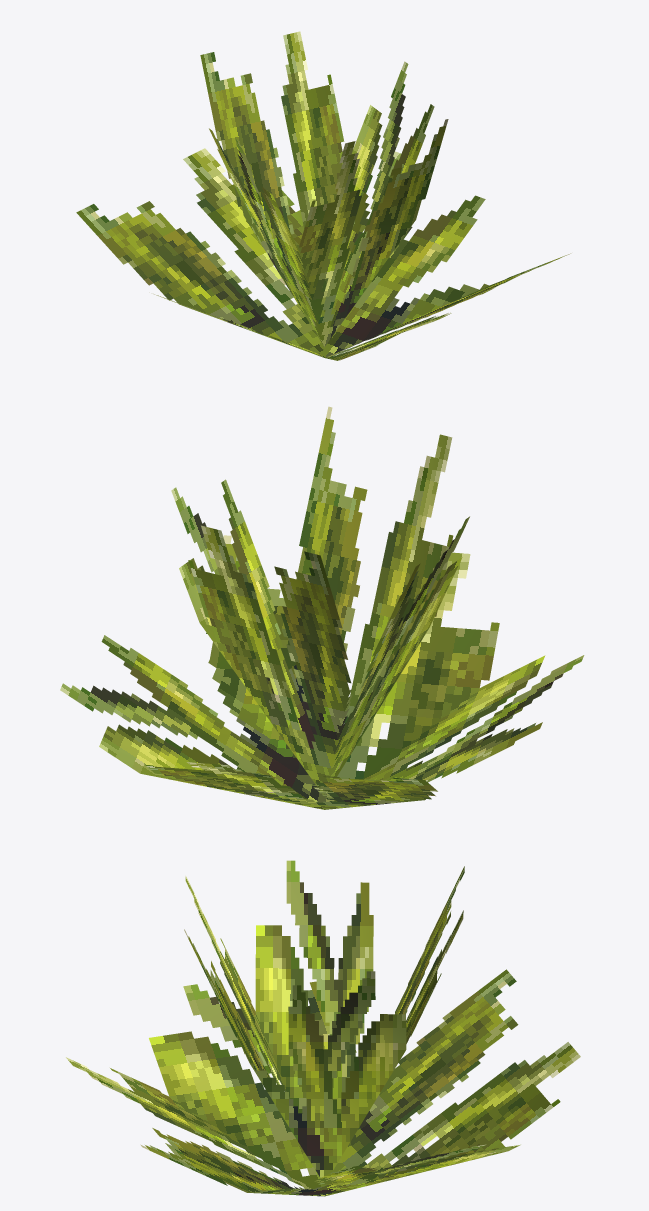
File: plant_tropic_a_0.glb
3 views of the same model, one above another, from view 1: azimuth 30°, elevation 25°; view 2: azimuth 150°, elevation 25°; view 3: azimuth 270°, elevation 25° (orthographic). The views are drawn at different scales.
Visible parts, largest first — view 1: plant_tropic_a_0; view 2: plant_tropic_a_0; view 3: plant_tropic_a_0.
Boxes of the visible parts, bbox=[...] form: plant_tropic_a_0: bbox=[76, 31, 571, 360]; plant_tropic_a_0: bbox=[60, 406, 584, 809]; plant_tropic_a_0: bbox=[66, 860, 580, 1196].
Size of the model in its own units: 1.93 by 1.02 by 1.93.
Materials: 1 (1 with a texture image).
